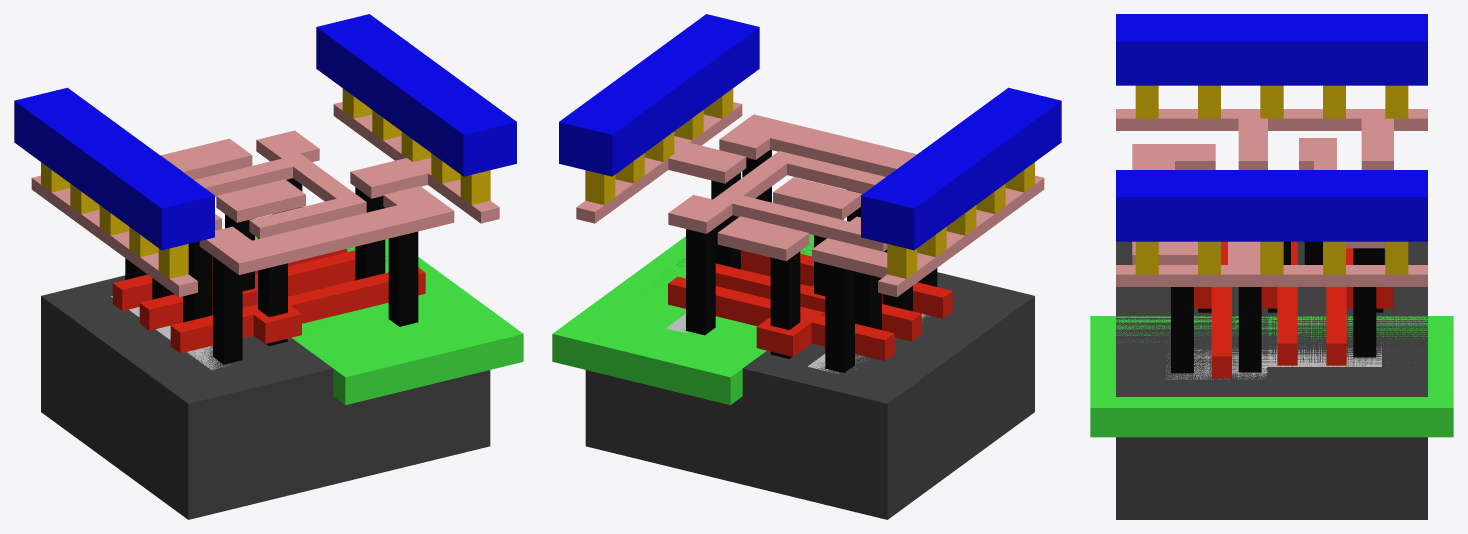
Rendered from sky130_fd_sc_hd__or2_0.obj.
3 views of the same model, side by side, from view 1: azimuth 30°, elevation 25°; view 2: azimuth 150°, elevation 25°; view 3: azimuth 270°, elevation 25° (orthographic). The views are drawn at different scales.
Visible parts, largest first — view 1: subs, metal1, li, nwell, licon, poly, mcon, diff; view 2: subs, metal1, li, nwell, licon, poly, mcon; view 3: subs, metal1, nwell, li, mcon, licon, poly, tap.
Boxes of the visible parts, x1,y1,x2,y2 form: subs: [41, 248, 490, 519]; metal1: [14, 14, 516, 250]; li: [31, 102, 499, 297]; nwell: [255, 236, 523, 405]; licon: [125, 178, 418, 364]; poly: [112, 249, 425, 353]; mcon: [41, 88, 490, 278]; diff: [111, 296, 230, 370]; subs: [585, 245, 1034, 519]; metal1: [559, 14, 1061, 250]; li: [576, 102, 1044, 297]; nwell: [552, 234, 813, 405]; licon: [686, 149, 937, 372]; poly: [668, 250, 952, 360]; mcon: [585, 88, 1034, 278]; subs: [1116, 241, 1427, 519]; metal1: [1116, 14, 1427, 241]; nwell: [1090, 316, 1453, 437]; li: [1116, 109, 1427, 286]; mcon: [1135, 85, 1408, 274]; licon: [1171, 241, 1384, 373]; poly: [1194, 241, 1393, 378]; tap: [1166, 346, 1381, 379].
Size of the model in its own units: 3.2 by 2.74 by 2.68.
